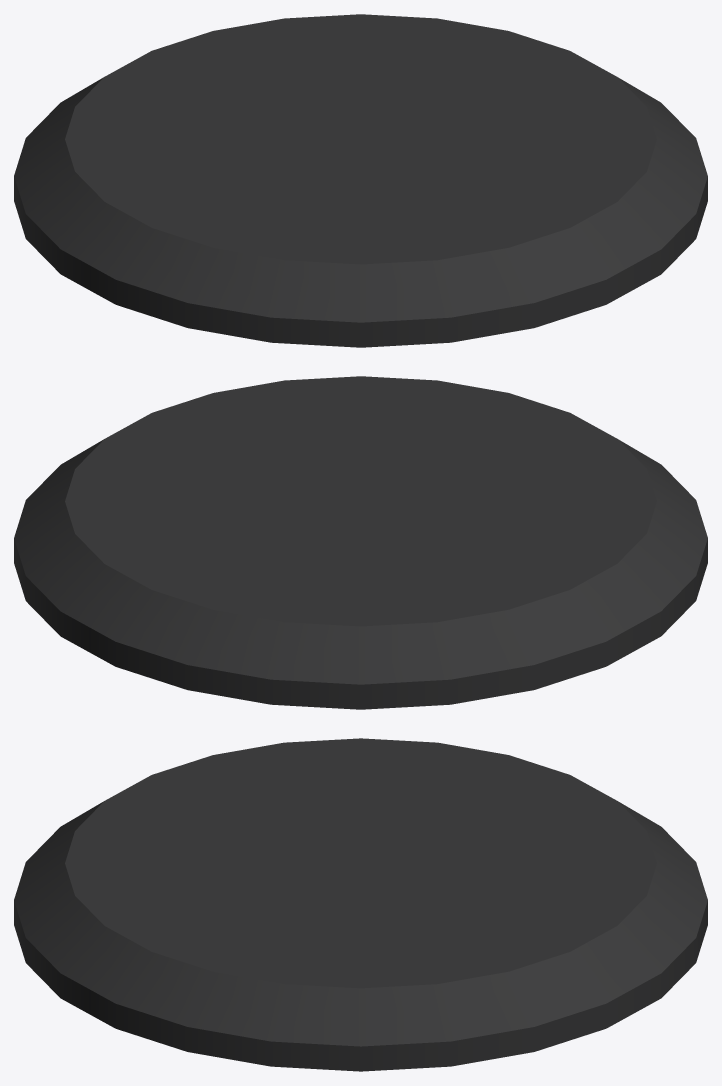
The model's file is Turret_002.fbx.
3 views of the same model, one above another, from view 1: azimuth 30°, elevation 25°; view 2: azimuth 150°, elevation 25°; view 3: azimuth 270°, elevation 25° (orthographic).
Visible parts, largest first — view 1: Turret_002; view 2: Turret_002; view 3: Turret_002.
Boxes of the visible parts, x1=… form: Turret_002: x1=14, y1=14, x2=707, y2=347; Turret_002: x1=14, y1=376, x2=707, y2=709; Turret_002: x1=14, y1=738, x2=707, y2=1071.
Size of the model in its own units: 122 by 122 by 12.01.
